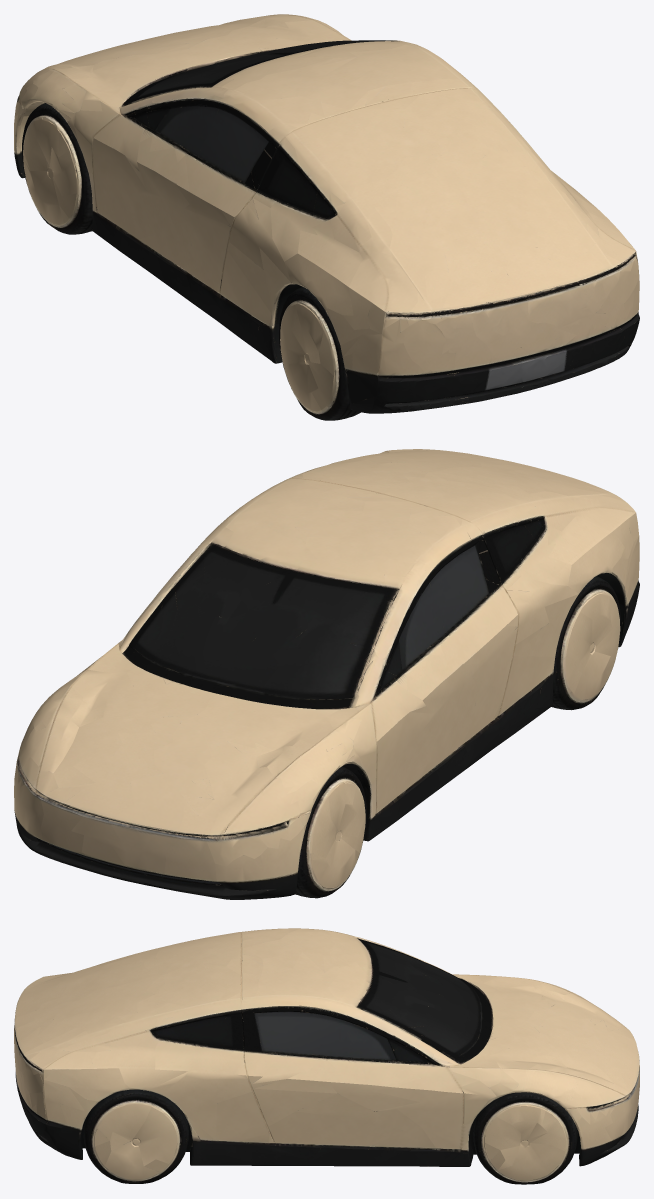
The model's file is rejected-candidate.glb.
3 renders of one model, top to bottom at view 1: azimuth 30°, elevation 25°; view 2: azimuth 150°, elevation 25°; view 3: azimuth 270°, elevation 25°, orthographic. The views are drawn at different scales.
Parts seen in each view (by area): view 1: Body, Wheel_FL, Wheel_RL; view 2: Body, Wheel_RL, Wheel_FL; view 3: Body, Wheel_RR, Wheel_FR.
Boxes of the visible parts, x1,y1,x2,y2 form: Body: (14, 14, 639, 420); Wheel_FL: (15, 99, 92, 234); Wheel_RL: (279, 287, 360, 420); Body: (14, 449, 639, 899); Wheel_RL: (552, 575, 628, 709); Wheel_FL: (296, 758, 372, 897); Body: (14, 928, 639, 1182); Wheel_RR: (78, 1089, 191, 1183); Wheel_FR: (468, 1091, 580, 1184).
Size of the model in its own units: 1.85 by 1.36 by 4.45.
1 material, 1 textured.
